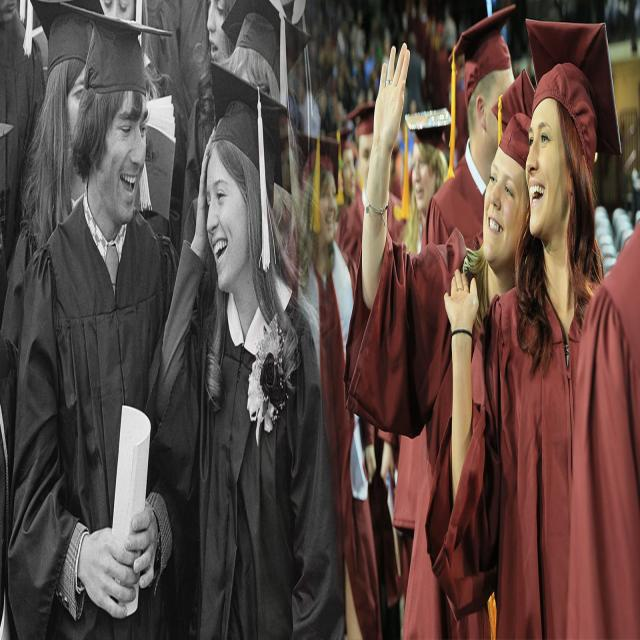body: (421, 12, 640, 639), (6, 1, 200, 640), (144, 57, 347, 639), (342, 39, 537, 640), (291, 115, 384, 640), (50, 0, 476, 112), (379, 107, 450, 640), (0, 0, 106, 352), (557, 198, 640, 639), (421, 1, 532, 249), (271, 110, 413, 254), (135, 110, 222, 338), (0, 1, 50, 374), (335, 98, 407, 298), (475, 0, 640, 78), (440, 112, 475, 184)
